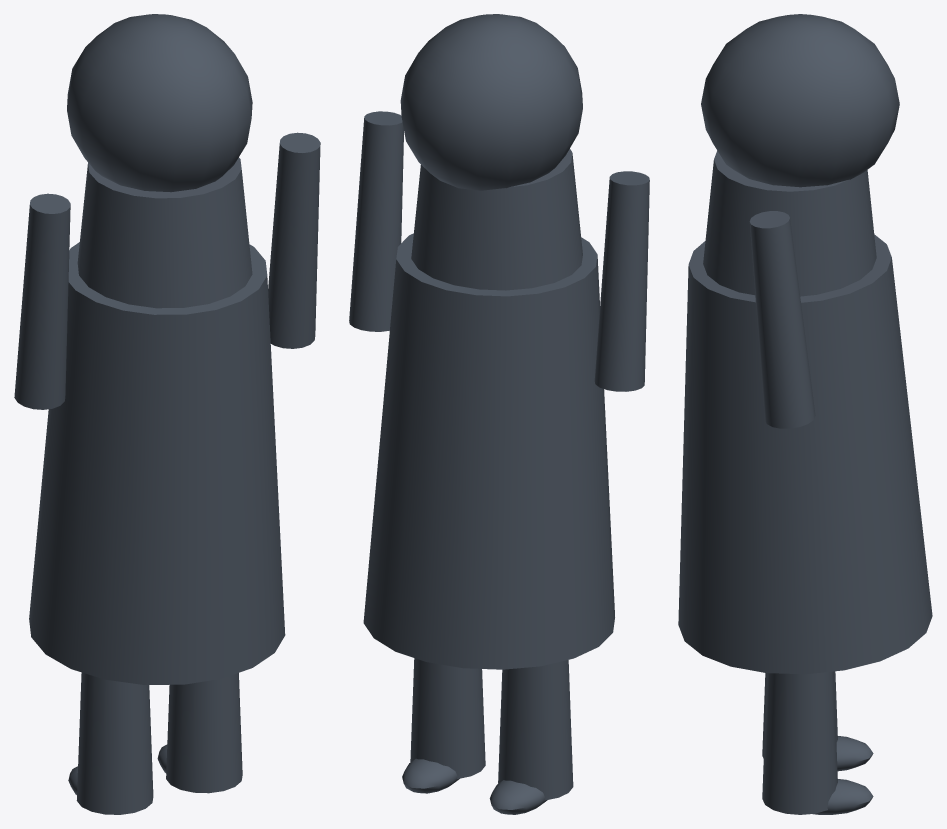
The model's file is rain_person.glb.
The picture shows the model from 3 angles, left to right: view 1: azimuth 30°, elevation 25°; view 2: azimuth 150°, elevation 25°; view 3: azimuth 270°, elevation 25°; orthographic projection.
Parts seen in each view (by area): view 1: RainPerson.Coat; view 2: RainPerson.Coat; view 3: RainPerson.Coat.
Part boxes in pixels (x1,y1,x2,y2): RainPerson.Coat: (14, 14, 320, 814); RainPerson.Coat: (349, 14, 649, 814); RainPerson.Coat: (678, 14, 932, 814).
Bounding box in the file's own units: 0.66 × 1.66 × 0.4996.
